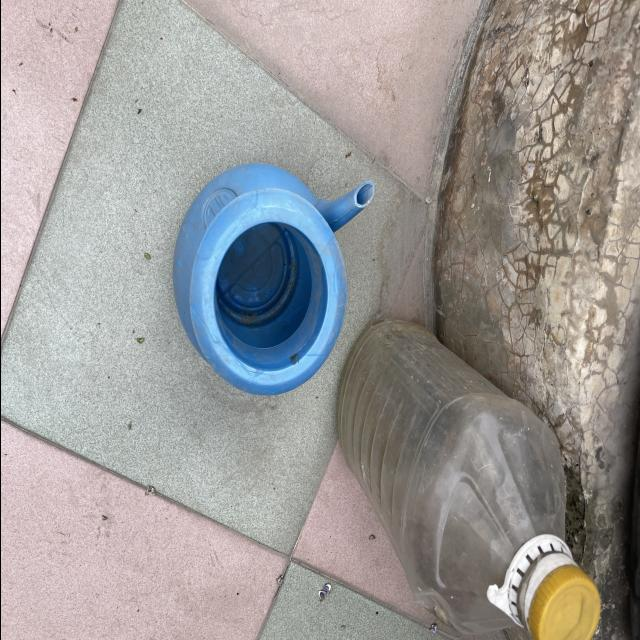Breeding Place: (333, 286, 602, 640), (153, 165, 373, 414)
